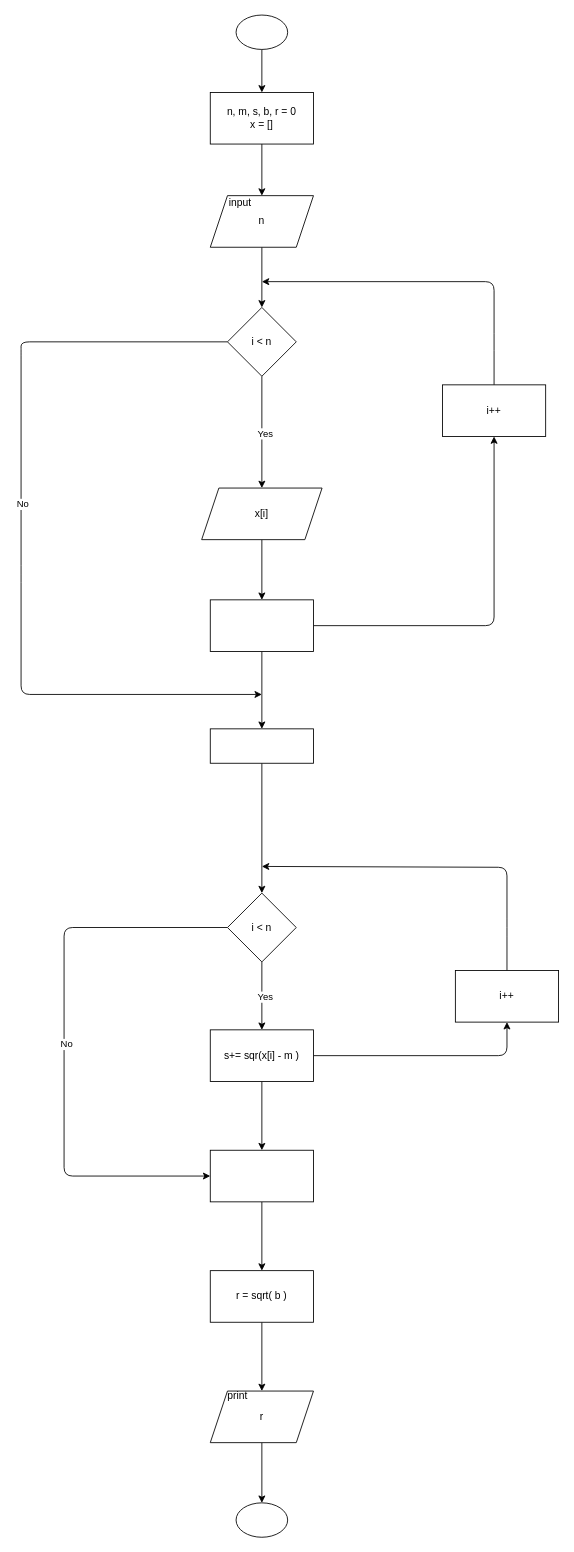
Some shapes in this 574 by 1552 pixel diagram are drawn without their labels. The shapes that lost their labels are listed below. From the top down, each one's centre as x and y in pixels, then its label:
At point 261,31: "Start".
At point 261,625: "a += x[i]".
At point 261,745: "m = a / n".
At point 261,1175: "b = s / n".
At point 261,1519: "end".
